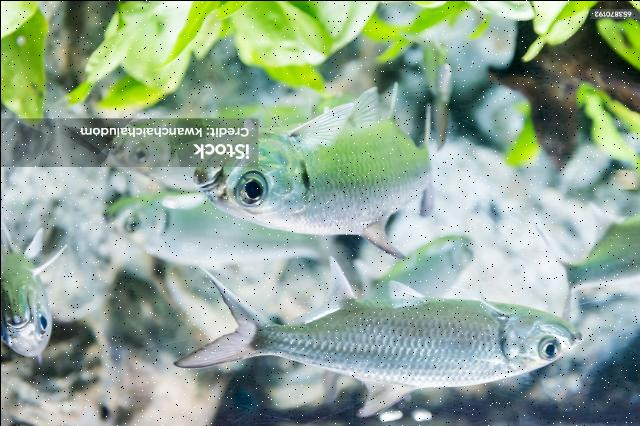Mulut: (0, 284, 48, 340), (540, 318, 594, 358), (185, 151, 228, 201), (79, 197, 121, 238)
Sirip Anal: (283, 250, 359, 326)
Sirip Dada: (277, 92, 361, 156), (25, 230, 79, 286), (458, 279, 514, 321)
Sirip Ekor: (163, 258, 275, 389)
Sirip Perut: (341, 75, 383, 127), (367, 275, 425, 309)
Sirip Punggung: (335, 375, 429, 421), (354, 215, 412, 274)
